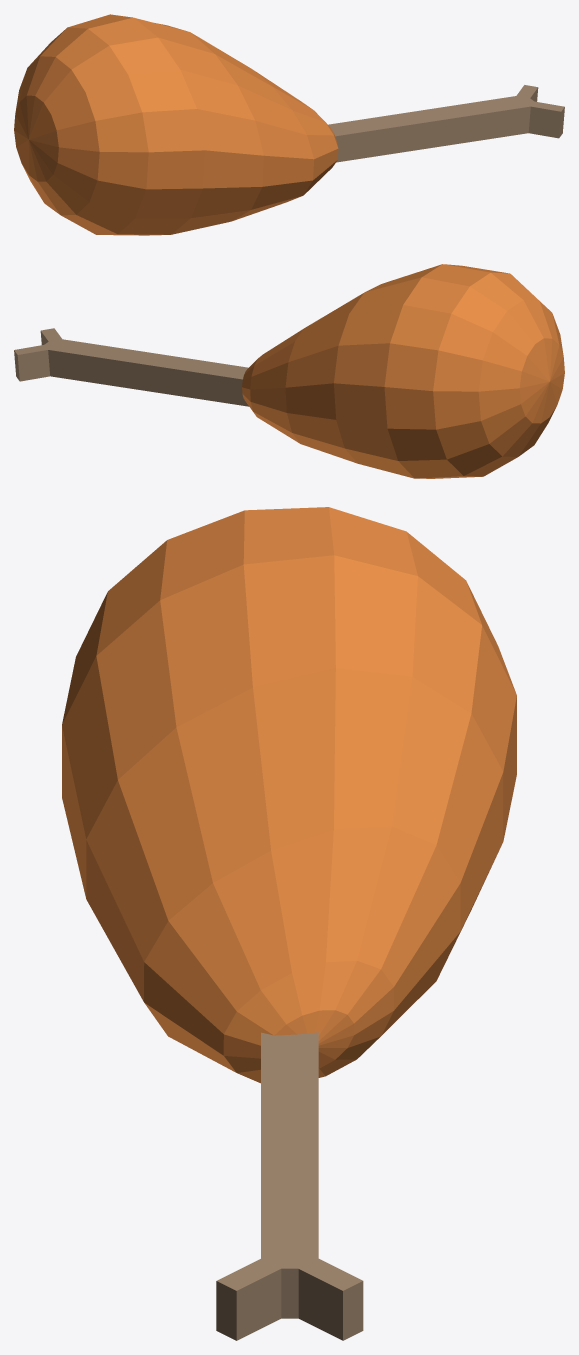
The model's file is poulet.fbx.
3 renders of one model, top to bottom at view 1: azimuth 30°, elevation 25°; view 2: azimuth 150°, elevation 25°; view 3: azimuth 270°, elevation 25°, orthographic. The views are drawn at different scales.
Visible parts, largest first — view 1: Poulet; view 2: Poulet; view 3: Poulet.
Boxes of the visible parts, x1=… form: Poulet: x1=14, y1=14, x2=564, y2=235; Poulet: x1=14, y1=264, x2=564, y2=478; Poulet: x1=62, y1=507, x2=516, y2=1340.
Bounding box in the file's own units: 59.8 × 22.58 × 21.98.
